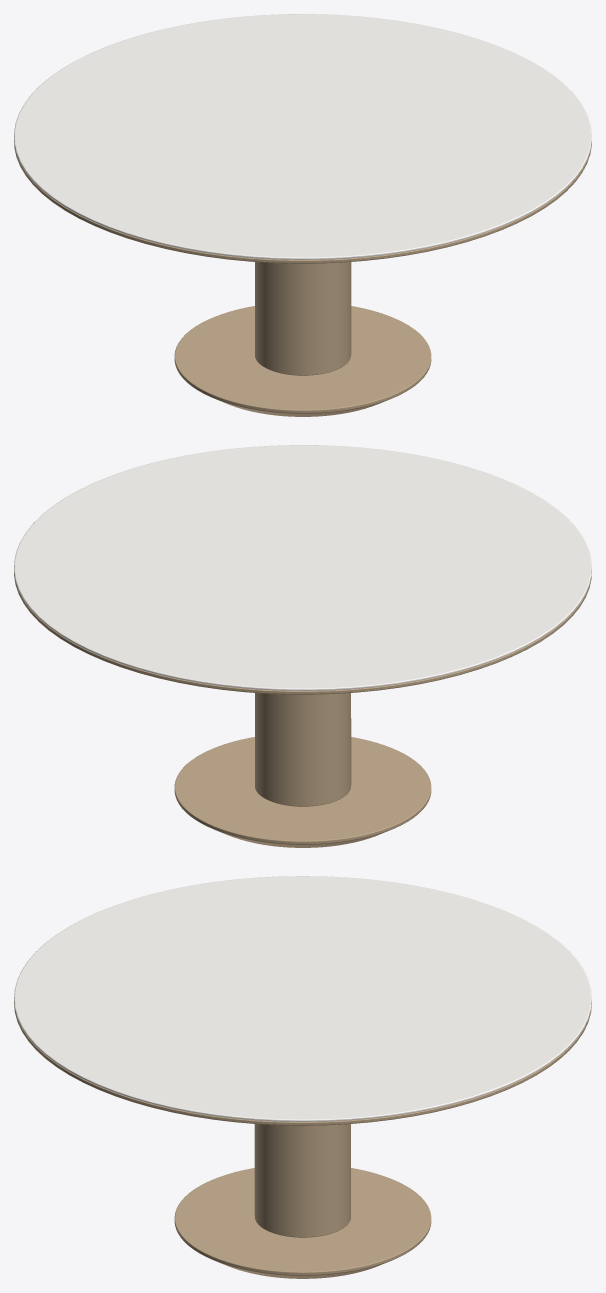
File: orbit_d90h40_hoje.glb
3 views of the same model, one above another, from view 1: azimuth 30°, elevation 25°; view 2: azimuth 150°, elevation 25°; view 3: azimuth 270°, elevation 25° (orthographic).
Visible parts, largest first — view 1: Top Orbit Coffee Table 025, Base Orbit Coffee Table 025, Base Element Orbit Coffee Table 028, Undertop Orbit Coffee Table 025; view 2: Top Orbit Coffee Table 025, Base Orbit Coffee Table 025, Base Element Orbit Coffee Table 028, Undertop Orbit Coffee Table 025; view 3: Top Orbit Coffee Table 025, Base Orbit Coffee Table 025, Base Element Orbit Coffee Table 028, Undertop Orbit Coffee Table 025.
Boxes of the visible parts, x1,y1,x2,y2 form: Top Orbit Coffee Table 025: (14, 14, 591, 259); Base Orbit Coffee Table 025: (174, 306, 431, 416); Base Element Orbit Coffee Table 028: (255, 262, 351, 375); Undertop Orbit Coffee Table 025: (14, 140, 591, 263); Top Orbit Coffee Table 025: (14, 445, 591, 690); Base Orbit Coffee Table 025: (174, 737, 431, 847); Base Element Orbit Coffee Table 028: (255, 693, 351, 806); Undertop Orbit Coffee Table 025: (14, 571, 591, 694); Top Orbit Coffee Table 025: (14, 876, 591, 1121); Base Orbit Coffee Table 025: (174, 1168, 431, 1278); Base Element Orbit Coffee Table 028: (254, 1124, 350, 1237); Undertop Orbit Coffee Table 025: (14, 1001, 591, 1125).
Bounding box in the file's own units: 0.9 × 0.404 × 0.9.
